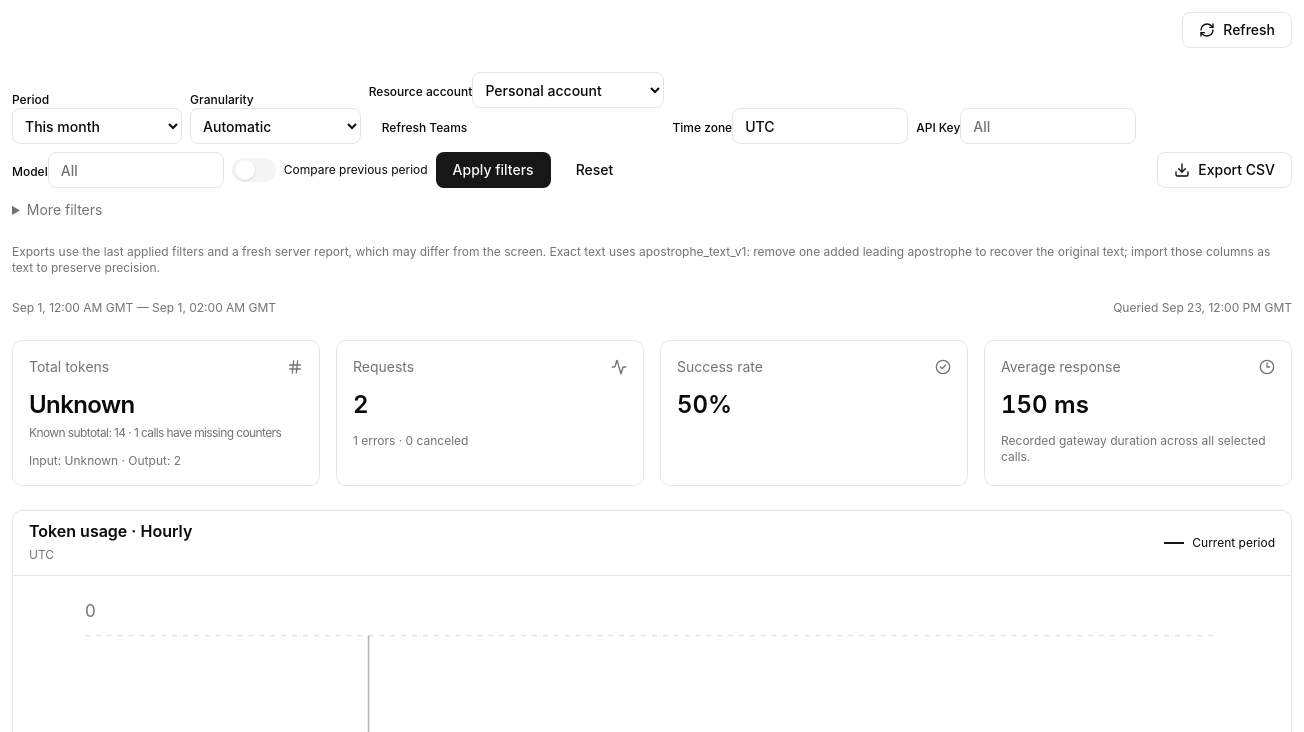
member Team aggregate usage › defaults to Personal and selects only a named own Team while removing Key controls
Select "Research" in the dropdown named "Resource account". click: (568, 90)
box: [472, 72, 664, 108]
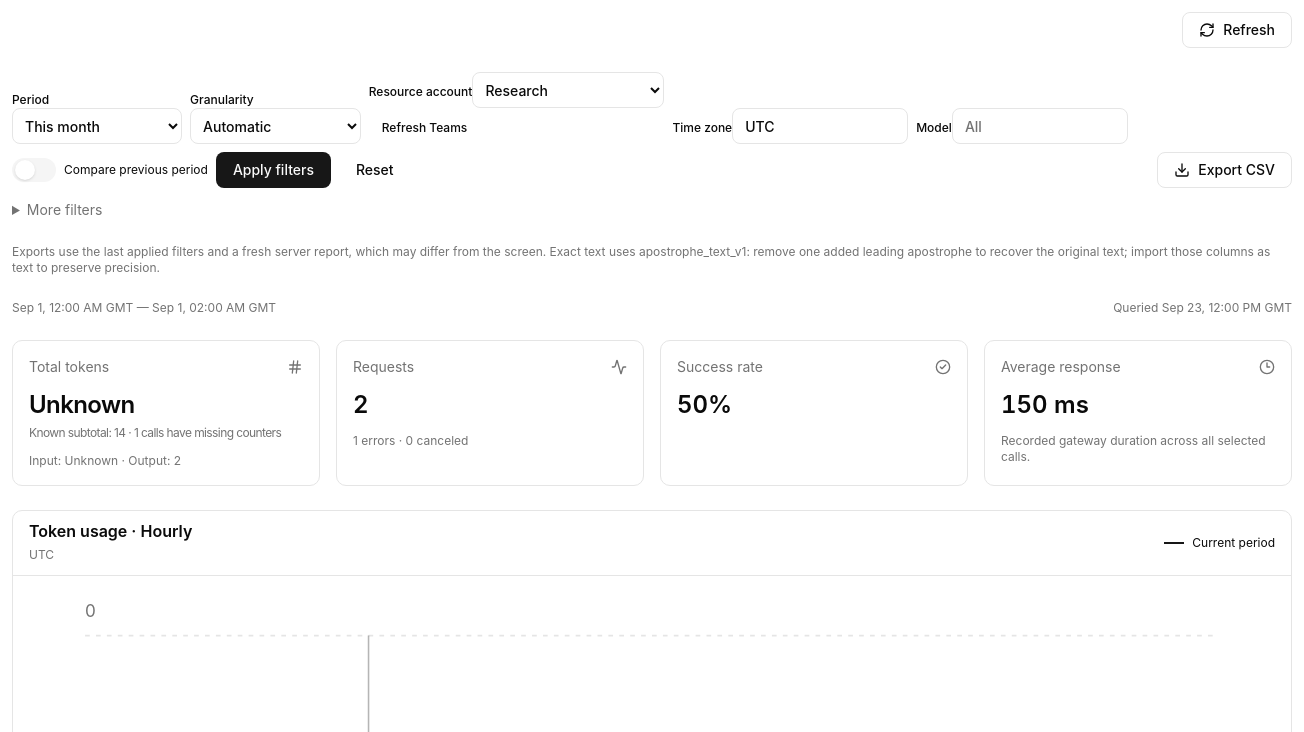
Now the field named "key_id" is gone
